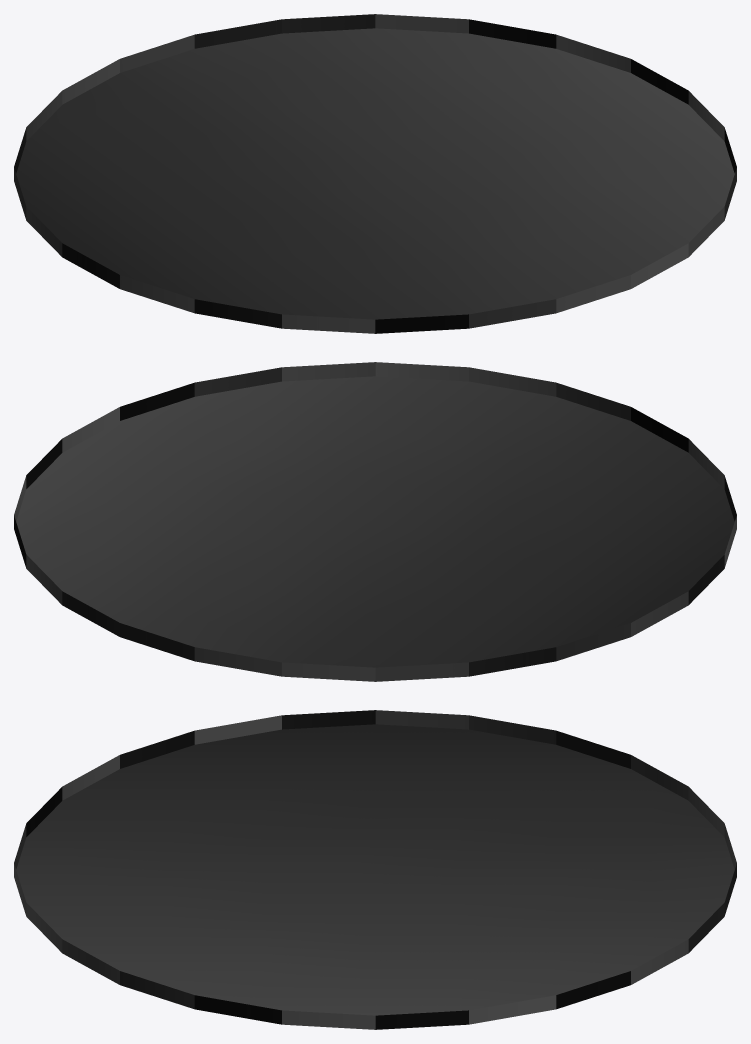
The model's file is original-47.obj.
The picture shows the model from 3 angles, top to bottom: view 1: azimuth 30°, elevation 25°; view 2: azimuth 150°, elevation 25°; view 3: azimuth 270°, elevation 25°; orthographic projection.
Parts seen in each view (by area): view 1: mesh6/mesh6-geometry/material_0#mesh6-geometry; view 2: mesh6/mesh6-geometry/material_0#mesh6-geometry; view 3: mesh6/mesh6-geometry/material_0#mesh6-geometry.
Part boxes in pixels (box(x1,y1,x2,y2)): mesh6/mesh6-geometry/material_0#mesh6-geometry: box(14, 14, 736, 333); mesh6/mesh6-geometry/material_0#mesh6-geometry: box(14, 362, 736, 681); mesh6/mesh6-geometry/material_0#mesh6-geometry: box(14, 710, 736, 1029).
Size of the model in its own units: 0.0629 by 0.00137 by 0.0629.
